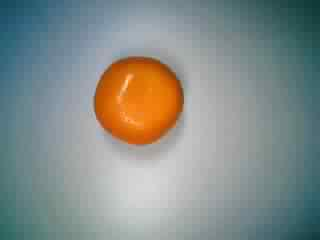orange: (94, 51, 190, 147)
